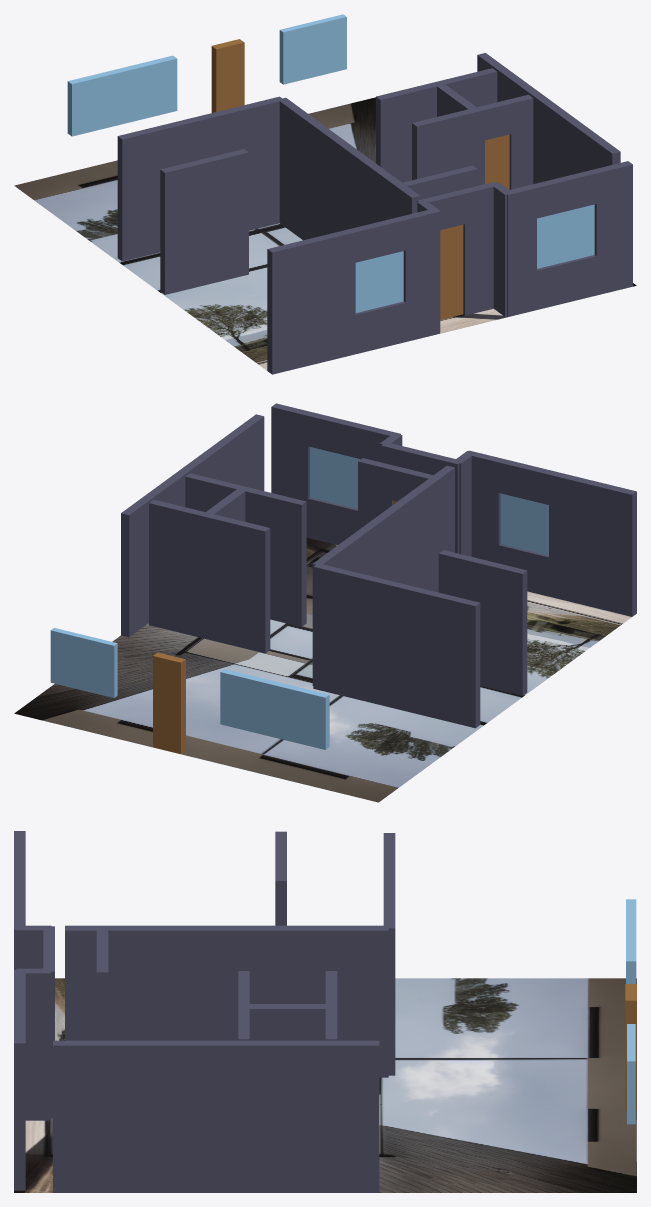
Rendered from sample3.obj.
The picture shows the model from 3 angles, top to bottom: view 1: azimuth 30°, elevation 25°; view 2: azimuth 150°, elevation 25°; view 3: azimuth 270°, elevation 25°; orthographic projection. The views are drawn at different scales.
Visible parts, largest first — view 1: wall, FloorPlan, Window, Door, door; view 2: wall, FloorPlan, Window, door; view 3: wall, FloorPlan, Window, door.
Part boxes in pixels (box(x1,y1,x2,y2)): wall: box(117, 53, 632, 374); FloorPlan: box(14, 97, 636, 370); Window: box(67, 14, 594, 312); Door: box(440, 134, 509, 319); door: box(211, 39, 244, 112); wall: box(121, 403, 636, 728); FloorPlan: box(14, 537, 631, 802); Window: box(50, 447, 548, 749); door: box(153, 652, 185, 754); wall: box(14, 831, 395, 1192); FloorPlan: box(14, 978, 636, 1192); Window: box(626, 899, 636, 1124); door: box(625, 984, 636, 1110).
Size of the model in its own units: 8.76 by 2.8 by 10.74.
Materials: 5 (1 with a texture image).
